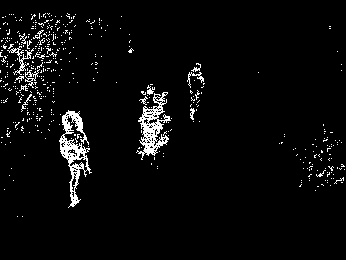person: (57, 109, 93, 211), (187, 62, 205, 123)
